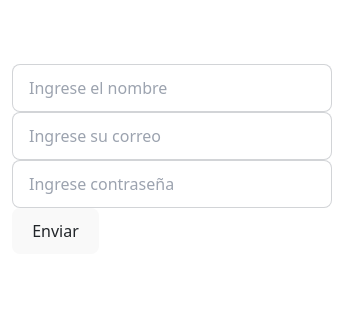
Pruebas de ManejoFormulario › Mostrar mensaje de registro exitoso
This screenshot has width=356, height=317.
Type "Juan" into the field with placeholder "Ingrese el nombre" at point(172, 88), box [12,64,332,112]
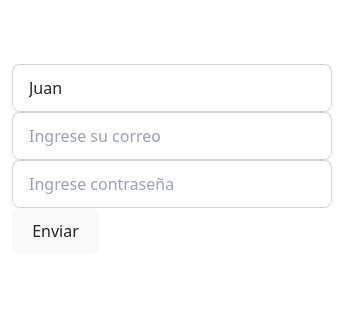
Type "juan@example.com" into the field with placeholder "Ingrese su correo" at point(172, 136), box [12,112,332,160]
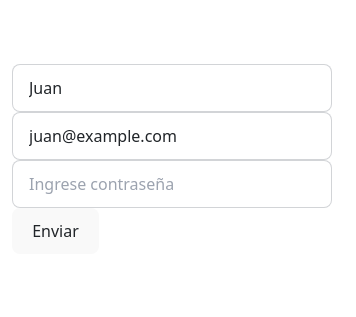
Type "contraseña123" into the password field with placeholder "Ingrese contraseña" at point(172, 184), box [12,160,332,208]
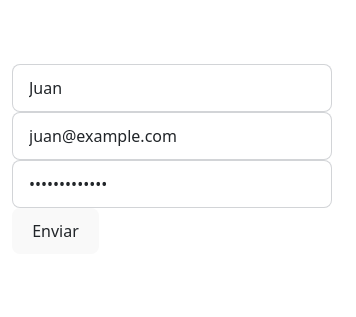
Click the button "Enviar" at point(56, 231), box [12,208,99,254]
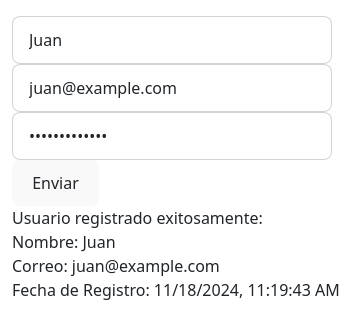
Now the text "Usuario registrado exitosamente:" is shown, box [12,207,263,229]
Now the text "Nombre: Juan" is shown, box [12,231,116,253]
Now the text "Correo: juan@example.com" is shown, box [12,255,220,277]
